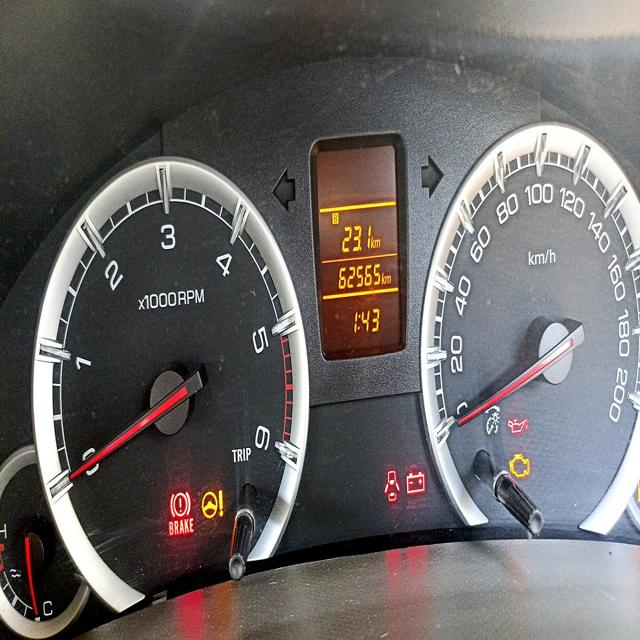odometer: (337, 259, 382, 290)
